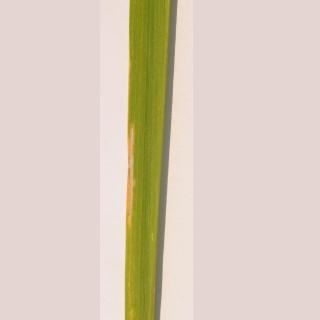Hawar-Daun: (116, 125, 146, 228)
